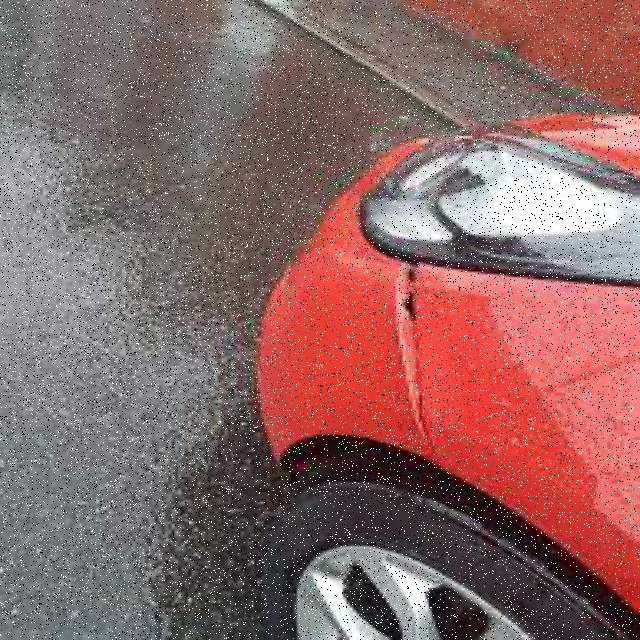front-bumper-dent: (241, 161, 522, 562)
